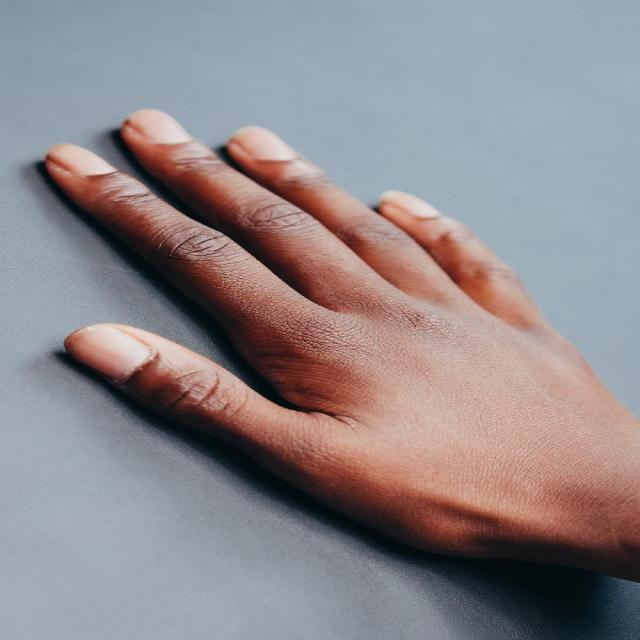Nail: (63, 324, 154, 383), (45, 143, 117, 177), (125, 109, 194, 144), (231, 126, 299, 161), (380, 191, 442, 218)
